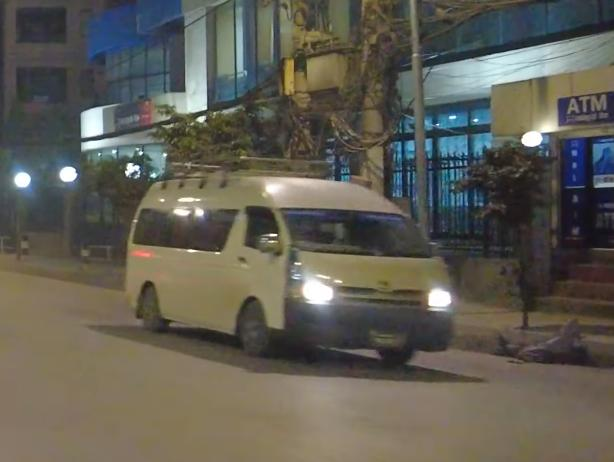micro_bus: (123, 163, 460, 374)
